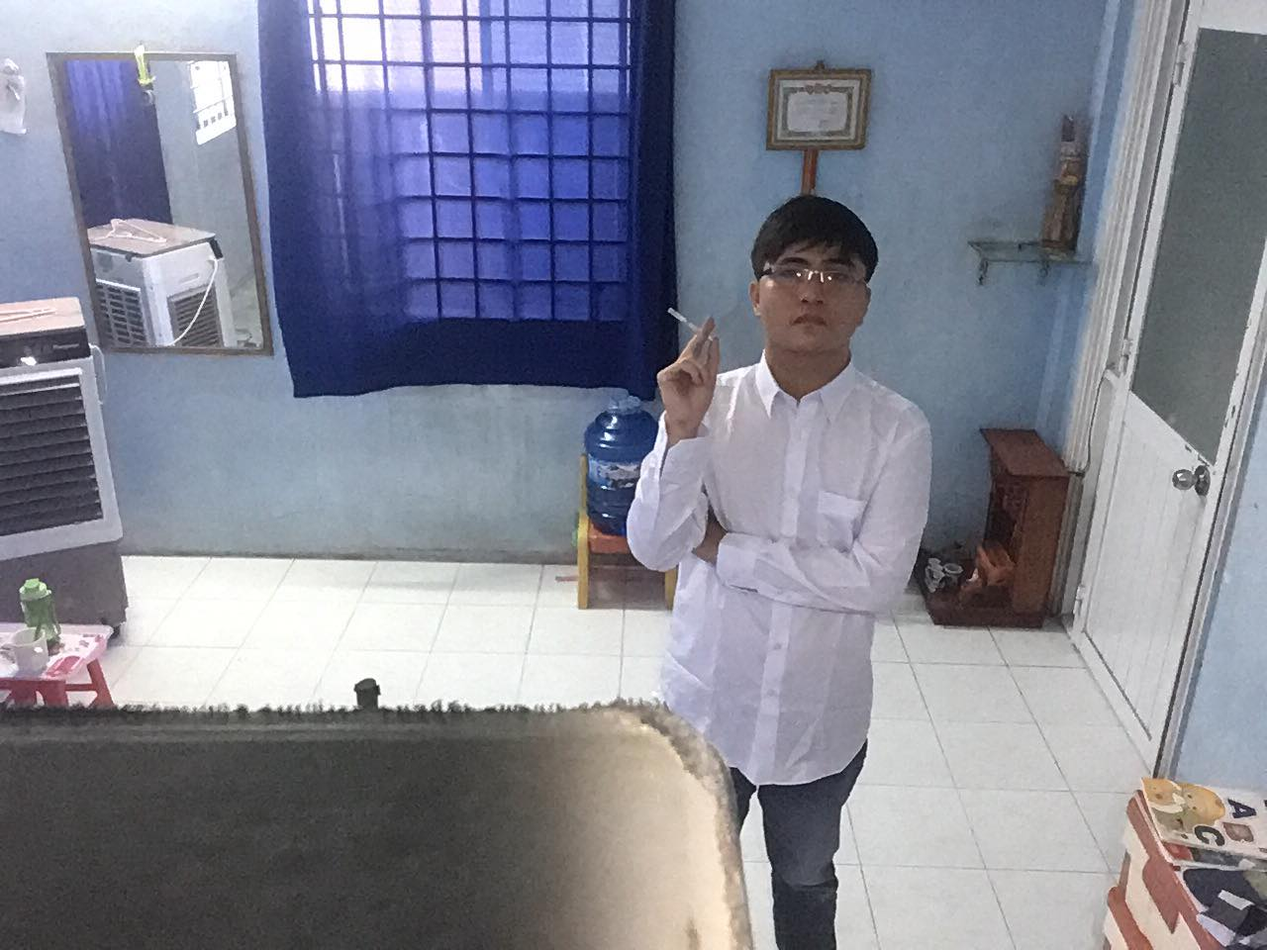cigarette: (669, 299, 722, 347)
person: (627, 185, 952, 847)
